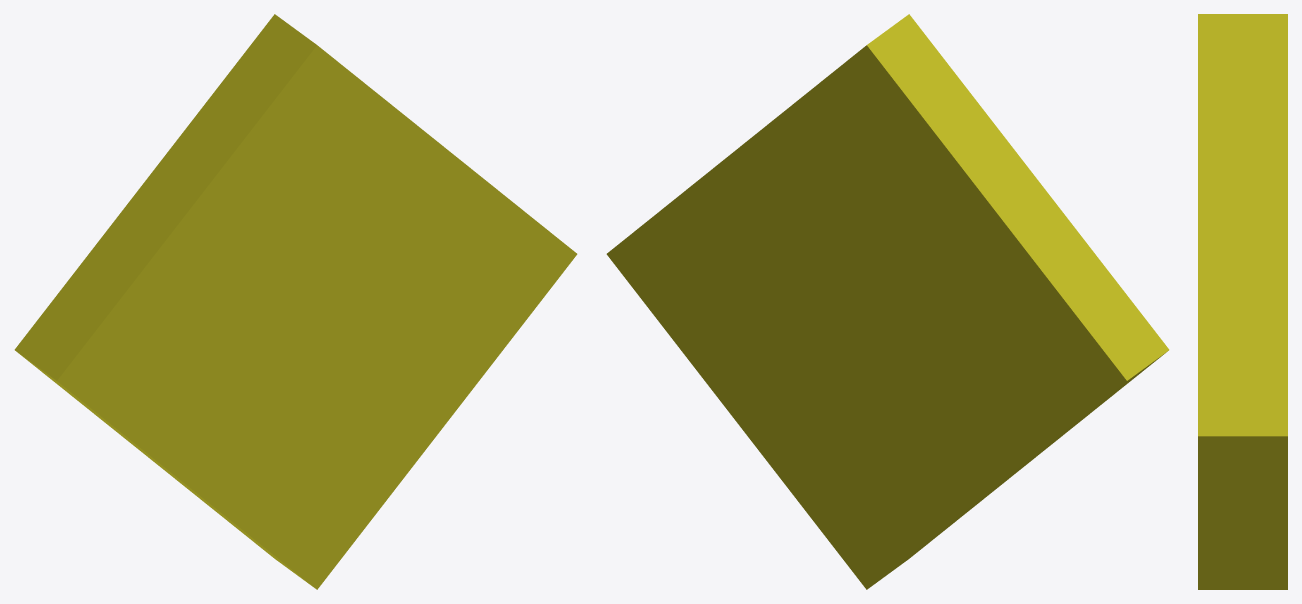
The model's file is trackNote_body_original.fbx.
3 renders of one model, left to right at view 1: azimuth 30°, elevation 25°; view 2: azimuth 150°, elevation 25°; view 3: azimuth 270°, elevation 25°, orthographic. The views are drawn at different scales.
Parts seen in each view (by area): view 1: Cube; view 2: Cube; view 3: Cube.
Part boxes in pixels (left/top/right/bottom): Cube: left=14, top=14, right=577, bottom=589; Cube: left=606, top=14, right=1169, bottom=589; Cube: left=1198, top=14, right=1287, bottom=589.
Bounding box in the file's own units: 141 × 141 × 20.
Materials: 1 (1 with a texture image).
